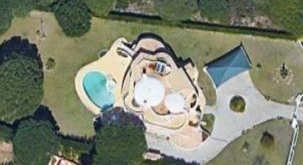pool: (83, 73, 117, 108)
